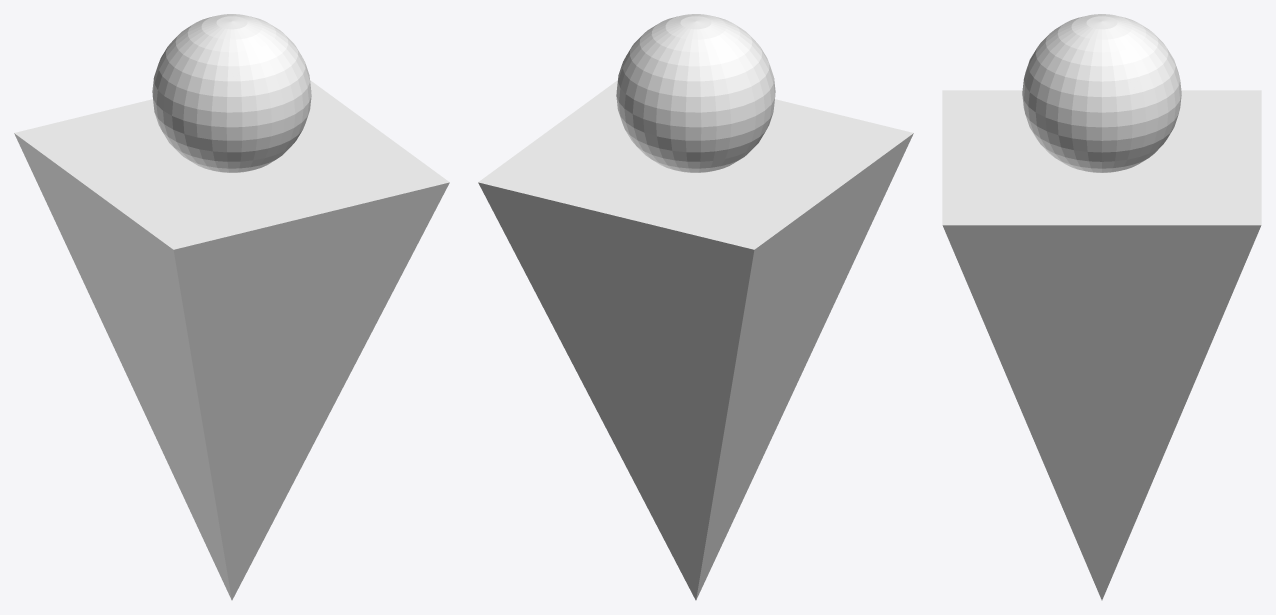
Rendered from Player.obj.
3 views of the same model, side by side, from view 1: azimuth 30°, elevation 25°; view 2: azimuth 150°, elevation 25°; view 3: azimuth 270°, elevation 25° (orthographic).
Parts seen in each view (by area): view 1: 立方体; view 2: 立方体; view 3: 立方体.
Boxes of the visible parts, x1,y1,x2,y2 form: 立方体: (14,14,449,600); 立方体: (478,14,913,600); 立方体: (942,14,1261,600).
Size of the model in its own units: 1 by 2 by 1.
1 material, 1 textured.
